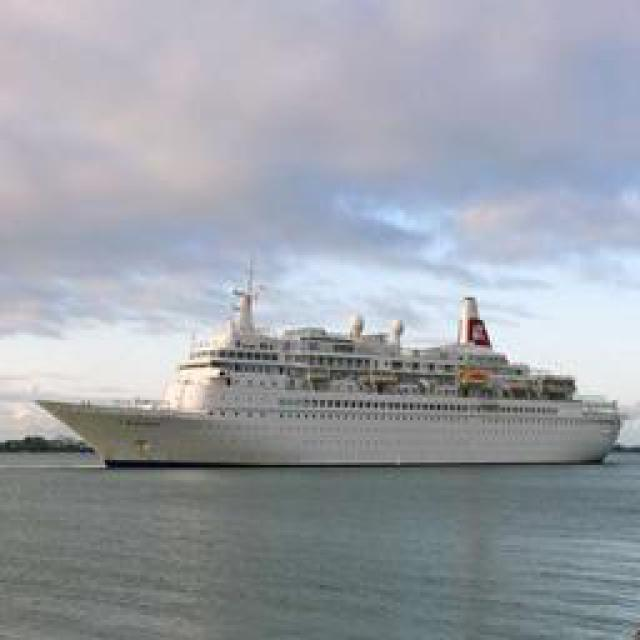Ship: (19, 272, 614, 472)
